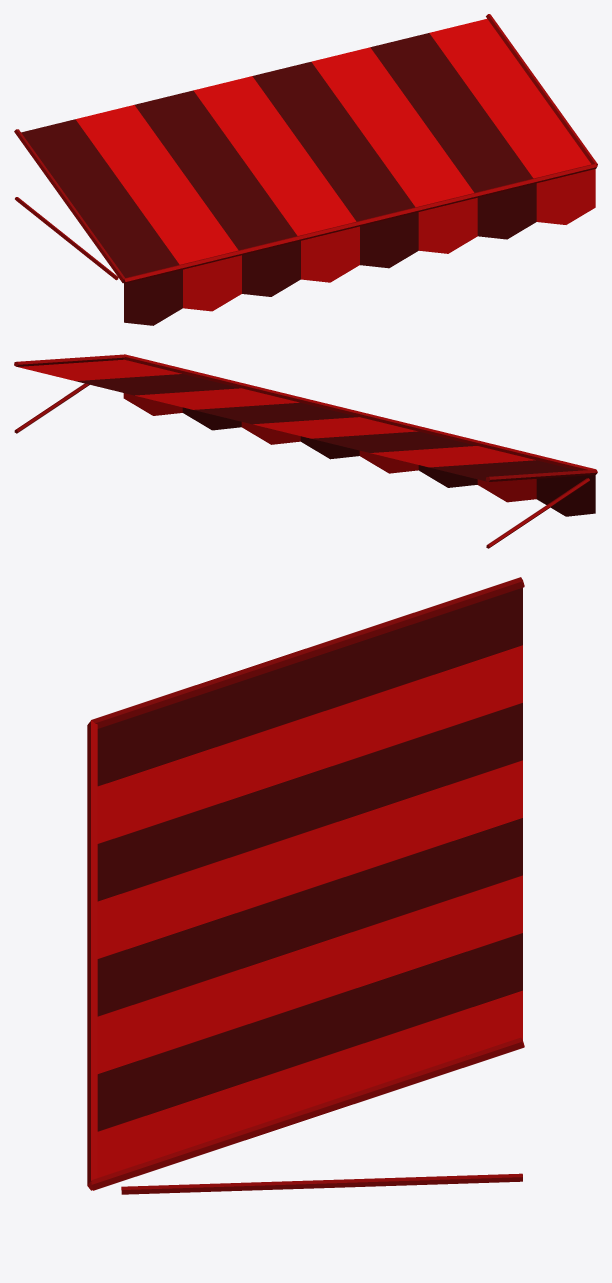
Rendered from awning_a.glb.
The picture shows the model from 3 angles, top to bottom: view 1: azimuth 30°, elevation 25°; view 2: azimuth 150°, elevation 25°; view 3: azimuth 270°, elevation 25°; orthographic projection. The views are drawn at different scales.
Parts seen in each view (by area): view 1: awning_a; view 2: awning_a; view 3: awning_a.
Boxes of the visible parts, <box> form: awning_a: <box>14,14,597,325</box>; awning_a: <box>14,354,597,548</box>; awning_a: <box>87,577,524,1194</box>.
Size of the model in its own units: 3.84 by 0.9679 by 1.53.
